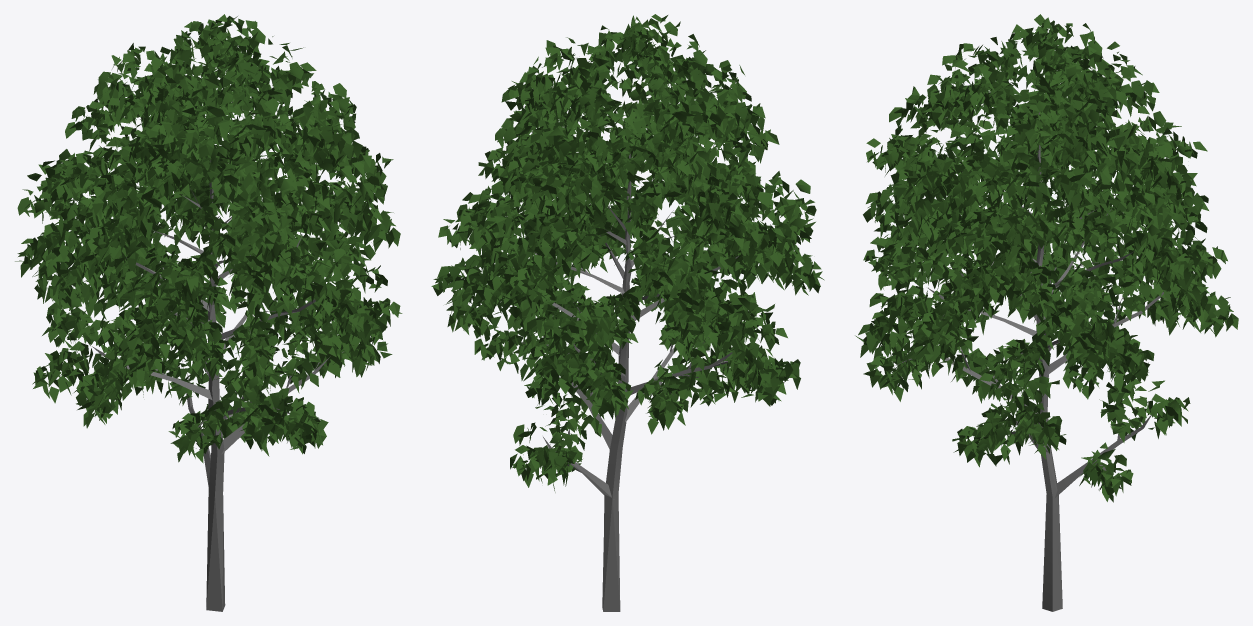
Rendered from birch_tree.obj.
3 renders of one model, left to right at view 1: azimuth 30°, elevation 25°; view 2: azimuth 150°, elevation 25°; view 3: azimuth 270°, elevation 25°, orthographic. The views are drawn at different scales.
Visible parts, largest first — view 1: Tree.Birch, Tree.Birch.001; view 2: Tree.Birch, Tree.Birch.001; view 3: Tree.Birch, Tree.Birch.001.
Boxes of the visible parts, box(x1,y1,x2,y2) form: Tree.Birch: box(15, 14, 402, 463); Tree.Birch.001: box(80, 160, 344, 611); Tree.Birch: box(431, 14, 824, 492); Tree.Birch.001: box(508, 154, 747, 611); Tree.Birch: box(855, 14, 1238, 502); Tree.Birch.001: box(894, 112, 1177, 611).
Bounding box in the file's own units: 2.39 × 3.9 × 2.36.
